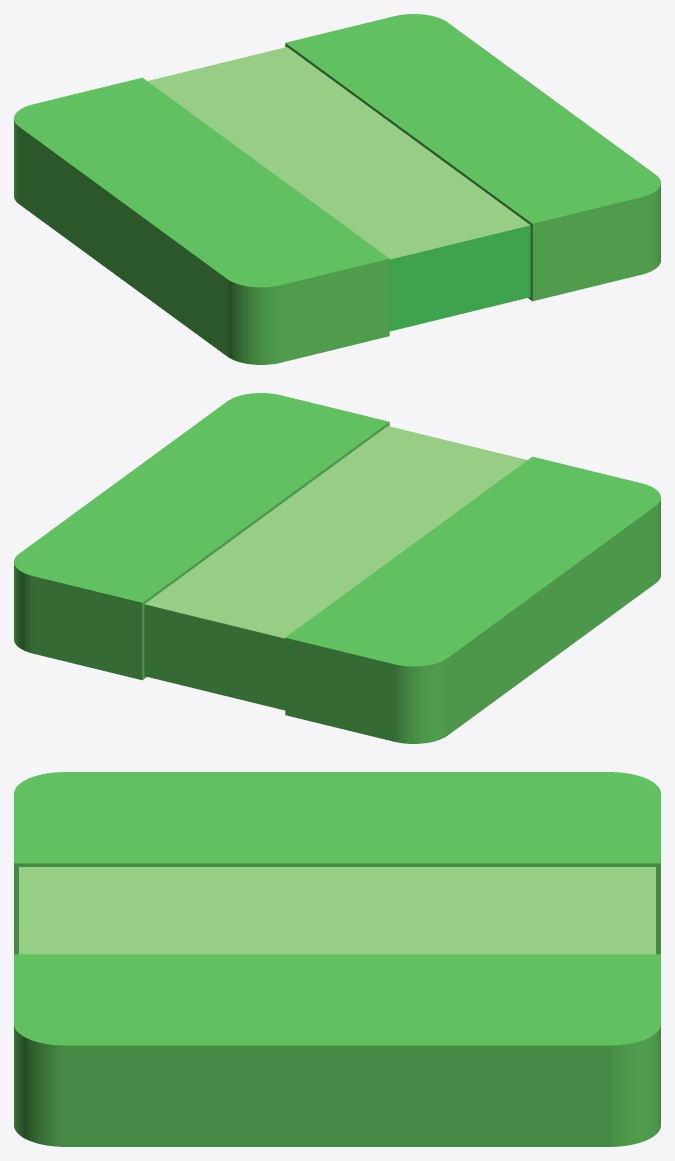
The model's file is island.glb.
The picture shows the model from 3 angles, top to bottom: view 1: azimuth 30°, elevation 25°; view 2: azimuth 150°, elevation 25°; view 3: azimuth 270°, elevation 25°; orthographic projection. The views are drawn at different scales.
Visible parts, largest first — view 1: Cube; view 2: Cube; view 3: Cube.
Part boxes in pixels (x1=…): Cube: x1=14, y1=14, x2=660, y2=364; Cube: x1=14, y1=393, x2=660, y2=743; Cube: x1=14, y1=772, x2=660, y2=1146.
Bounding box in the file's own units: 6.86 × 1.19 × 6.86.
